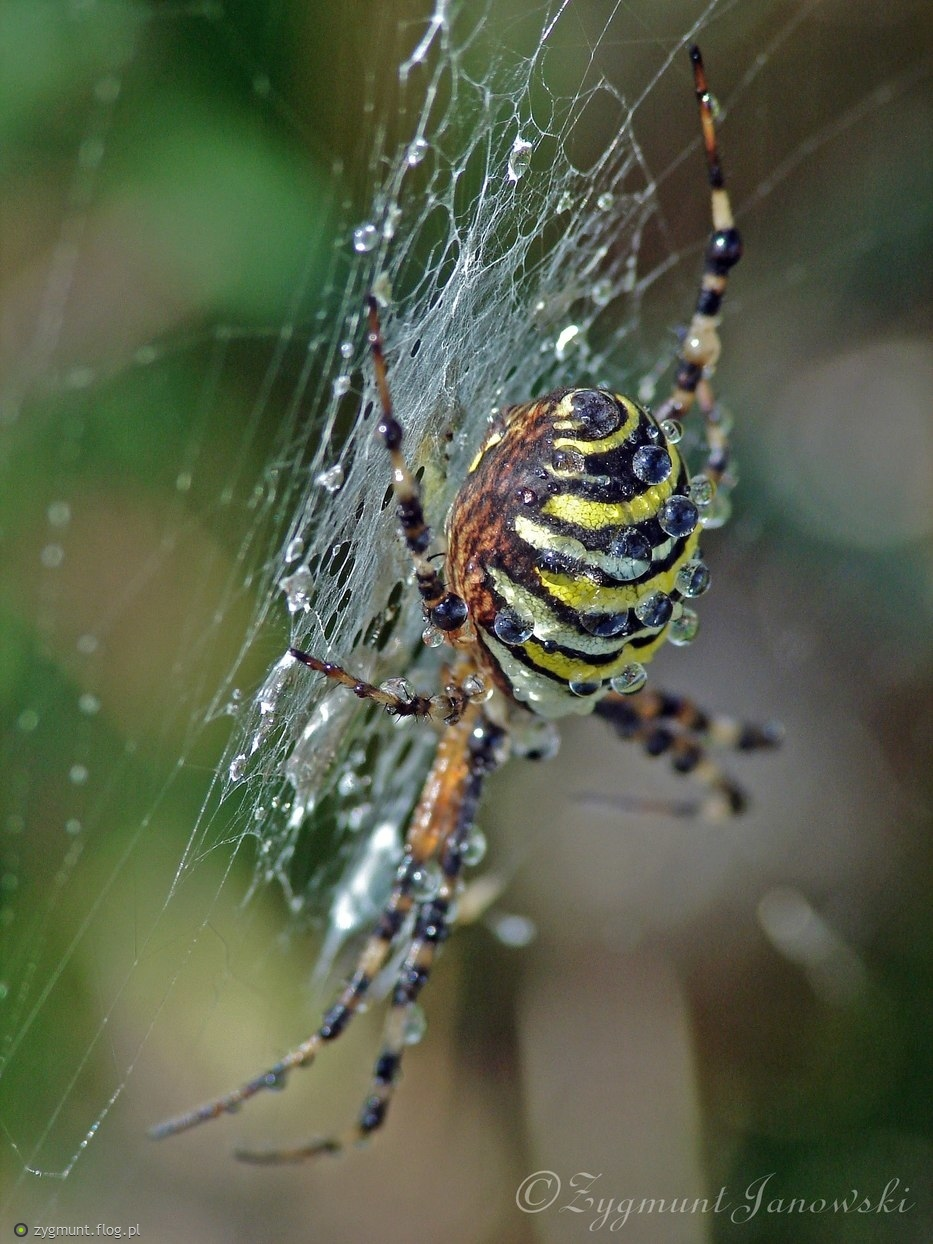spider: (107, 16, 802, 1175)
